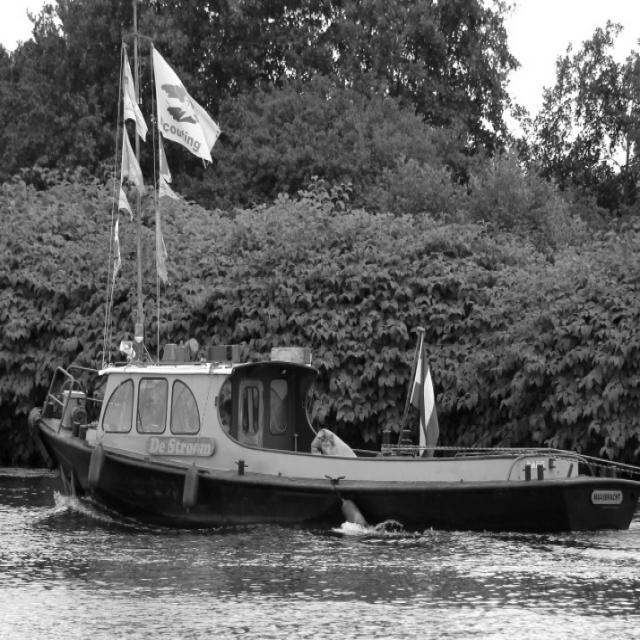tugboat: (24, 317, 640, 545)
